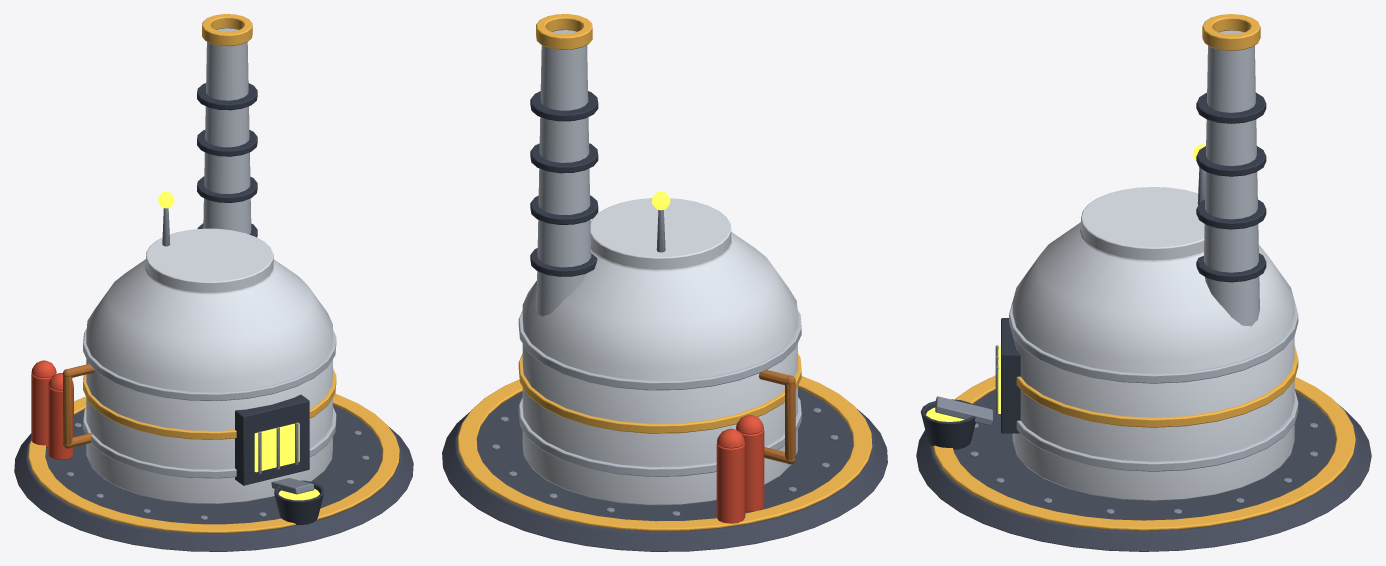
File: schmelze.fbx
3 views of the same model, side by side, from view 1: azimuth 30°, elevation 25°; view 2: azimuth 150°, elevation 25°; view 3: azimuth 270°, elevation 25° (orthographic). The views are drawn at different scales.
Parts seen in each view (by area): view 1: schmelze_Koerper; view 2: schmelze_Koerper; view 3: schmelze_Koerper.
Boxes of the visible parts, x1=… form: schmelze_Koerper: x1=14, y1=14, x2=413, y2=551; schmelze_Koerper: x1=442, y1=14, x2=887, y2=551; schmelze_Koerper: x1=916, y1=14, x2=1371, y2=551.
Size of the model in its own units: 4.69 by 5.21 by 4.69.
